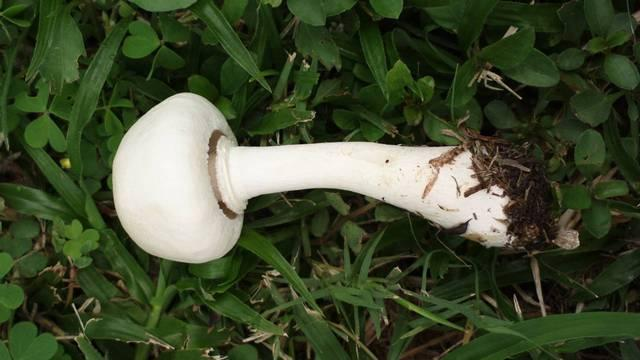poisonous_mushroom: (109, 90, 580, 264)
